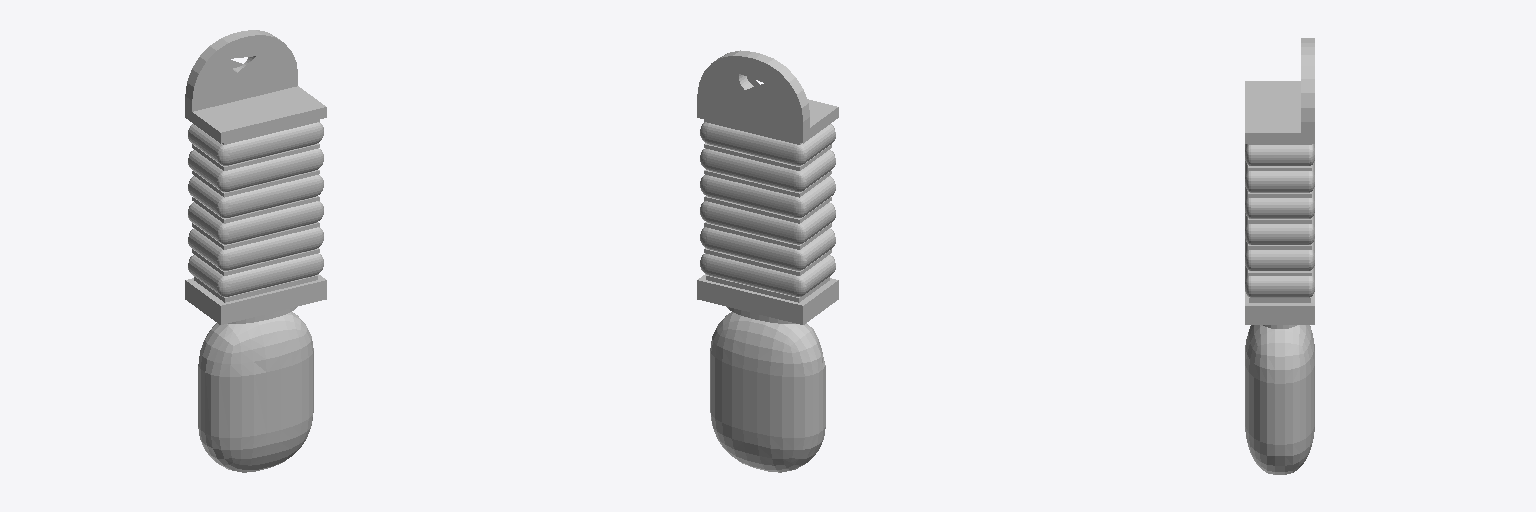
File: SetA_Misc_05.obj
The picture shows the model from 3 angles: view 1: azimuth 30°, elevation 25°; view 2: azimuth 150°, elevation 25°; view 3: azimuth 270°, elevation 25°; orthographic projection.
Visible parts, largest first — view 1: SetA_Misc_05; view 2: SetA_Misc_05; view 3: SetA_Misc_05.
Boxes of the visible parts, x1=… form: SetA_Misc_05: x1=185, y1=30, x2=326, y2=472; SetA_Misc_05: x1=697, y1=50, x2=838, y2=472; SetA_Misc_05: x1=1245, y1=38, x2=1314, y2=474.
Bounding box in the file's own units: 0.0837 × 0.3181 × 0.0483.